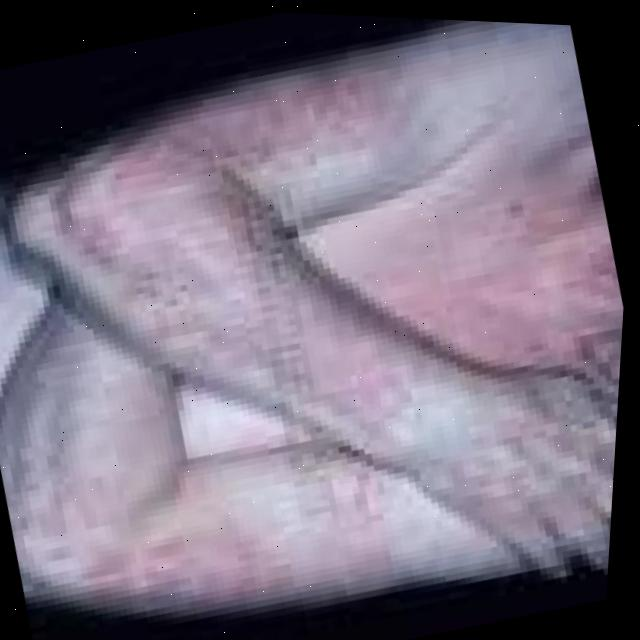Melasma: (21, 19, 435, 259), (26, 452, 380, 640)
